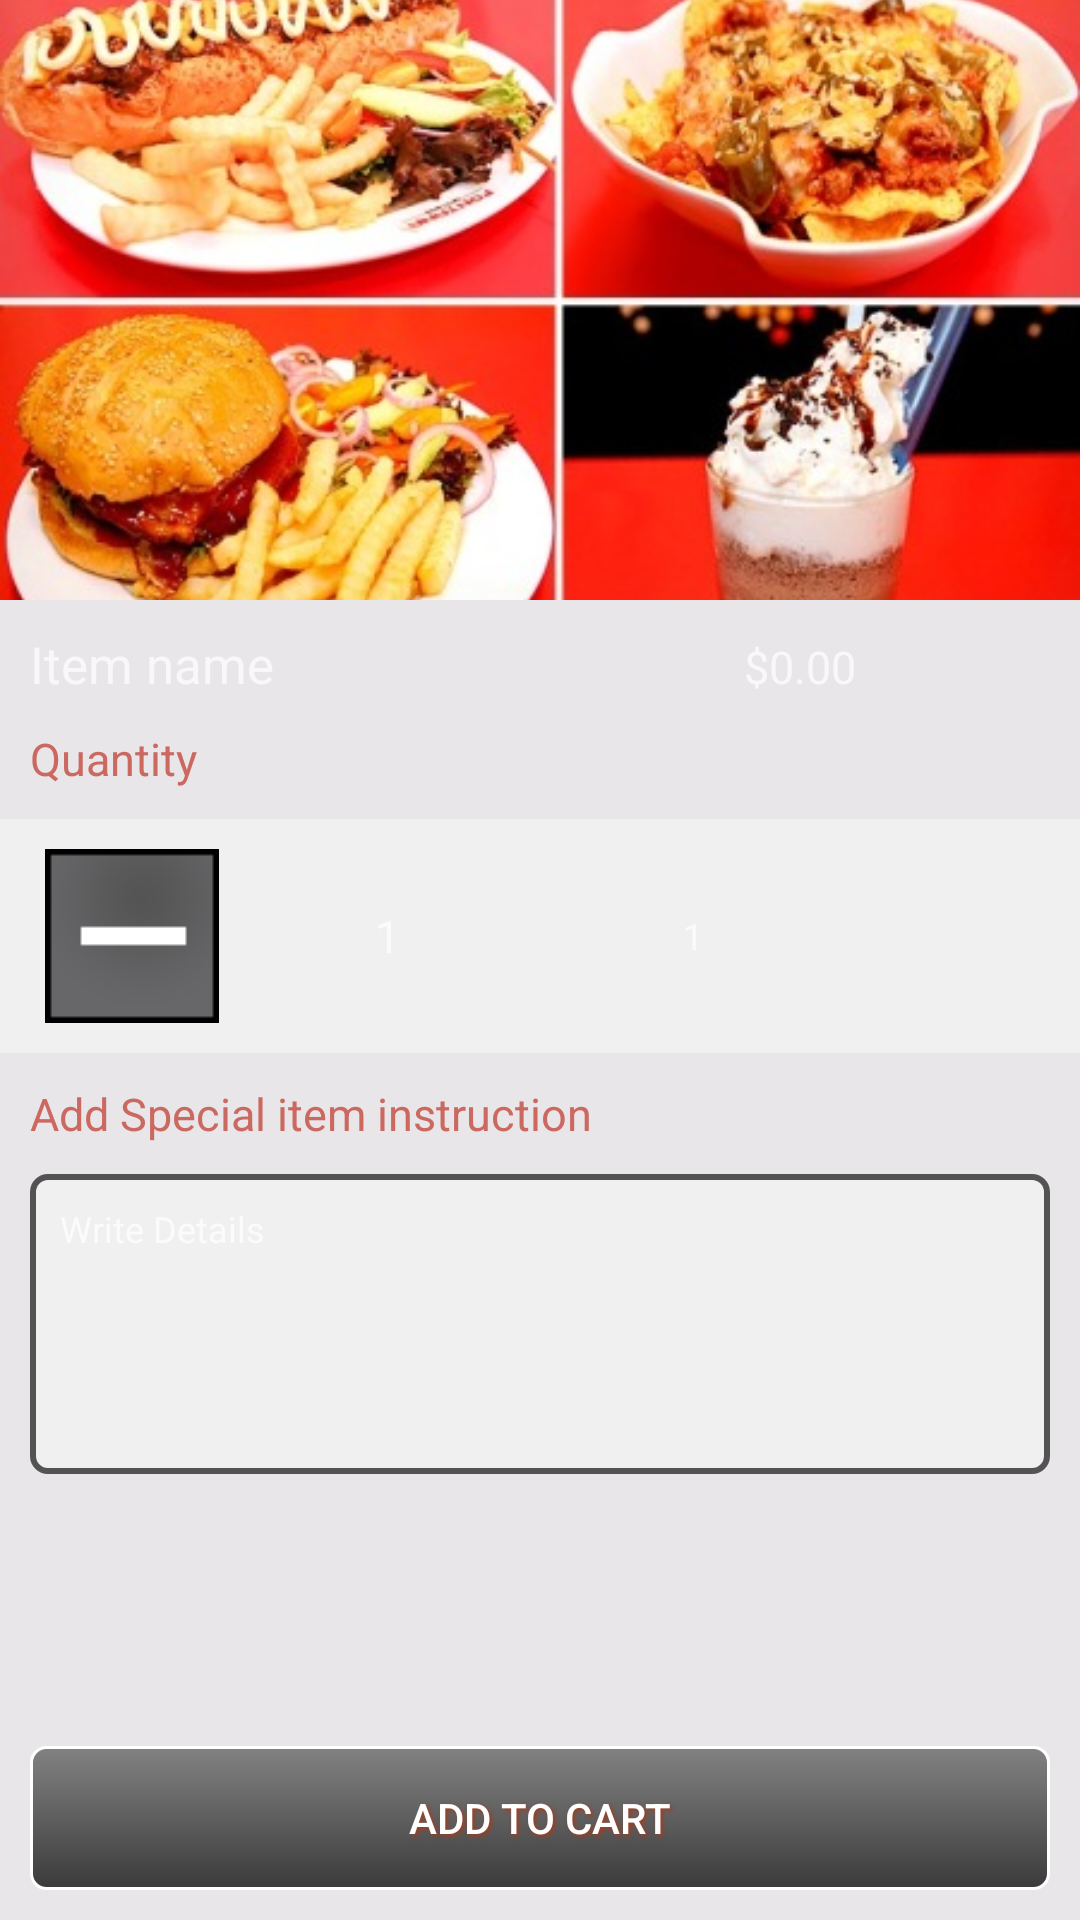

Icons on this 1080*1920 Android screen, each with the point to tap as (x=x, y=y):
dec: (x=132, y=936)
